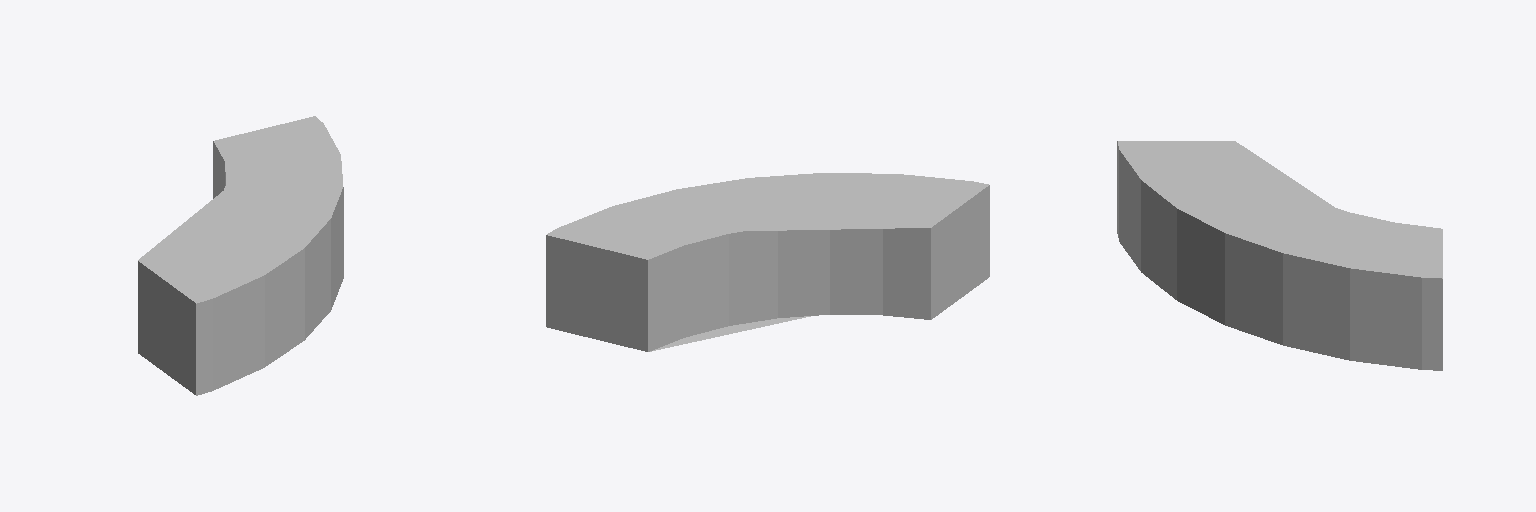
The model's file is fsharp.obj.
3 views of the same model, side by side, from view 1: azimuth 30°, elevation 25°; view 2: azimuth 150°, elevation 25°; view 3: azimuth 270°, elevation 25° (orthographic).
Parts seen in each view (by area): view 1: Cylinder.004_Cylinder.005; view 2: Cylinder.004_Cylinder.005; view 3: Cylinder.004_Cylinder.005.
Part boxes in pixels (bbox=[...]): Cylinder.004_Cylinder.005: bbox=[138, 116, 343, 395]; Cylinder.004_Cylinder.005: bbox=[546, 173, 989, 351]; Cylinder.004_Cylinder.005: bbox=[1117, 141, 1442, 370].
Bounding box in the file's own units: 0.6026 × 0.1889 × 0.6026.